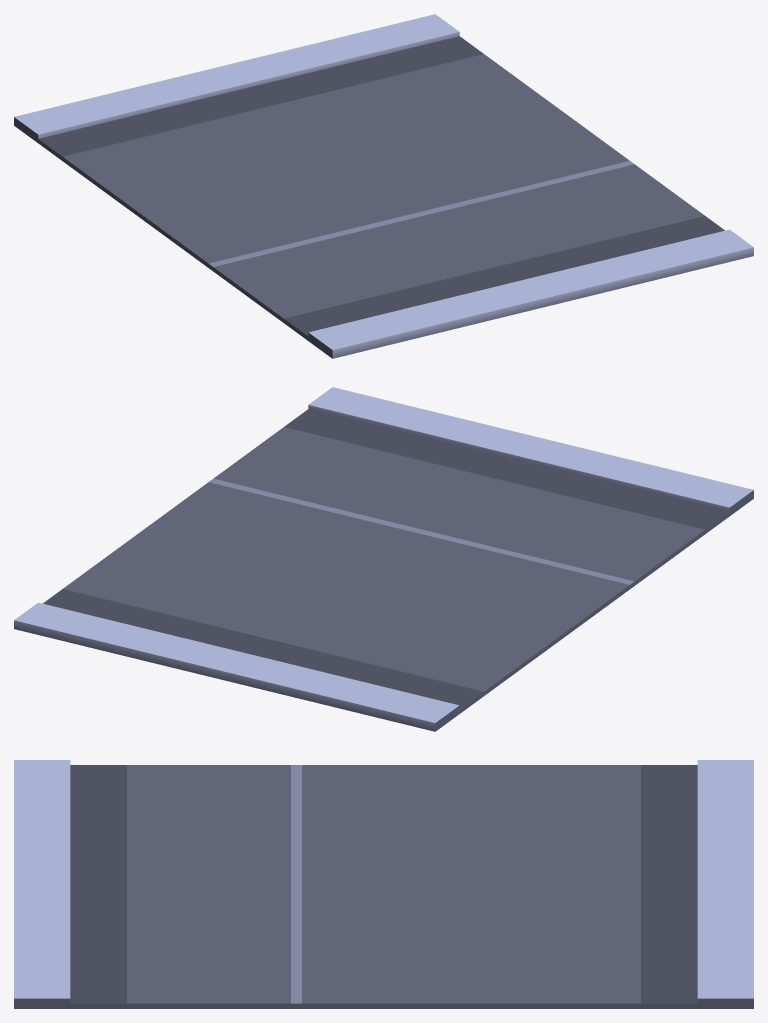
The model's file is road-side.glb.
3 views of the same model, one above another, from view 1: azimuth 30°, elevation 25°; view 2: azimuth 150°, elevation 25°; view 3: azimuth 270°, elevation 25° (orthographic). The views are drawn at different scales.
Parts seen in each view (by area): view 1: road-side; view 2: road-side; view 3: road-side.
Boxes of the visible parts, x1,y1,x2,y2 form: road-side: (14,14,753,358); road-side: (14,387,753,731); road-side: (14,760,753,1008).
Bounding box in the file's own units: 1 × 0.0198 × 1.31.
Materials: 1 (1 with a texture image).
